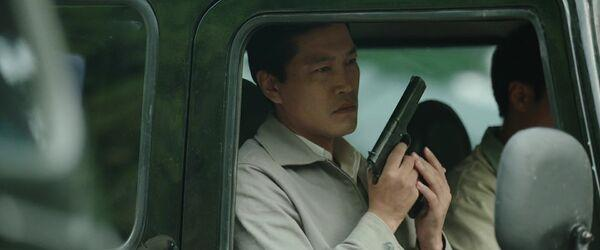Gun: (370, 75, 428, 188)
